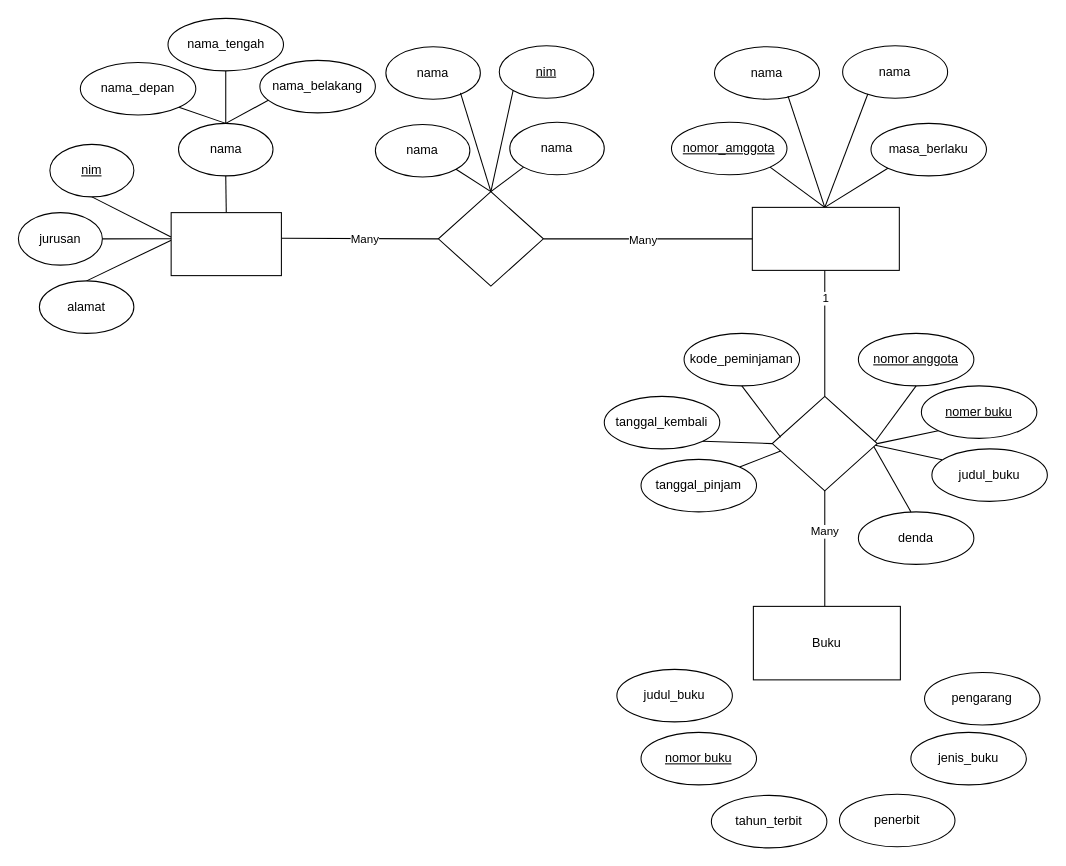
The diagram is 1066 pixels wide and 866 high, and some of its shapes have lost their labels. Each missing label, with the centre of its shape:
"Anggota perpustakaan" belongs at [825,238].
"Mahasiswa" belongs at [225,244].
"meminjam" belongs at [824,443].
"mendaftar" belongs at [490,238].
